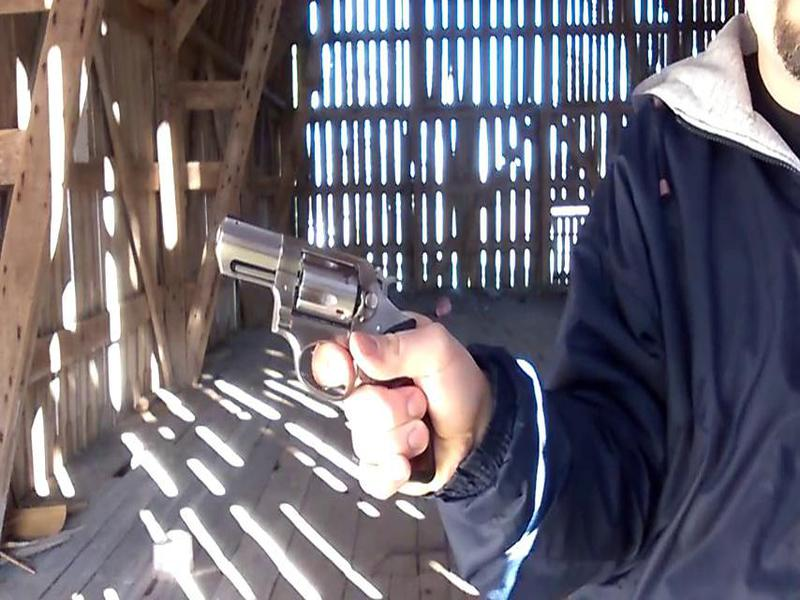Revolver: (206, 204, 448, 486)
